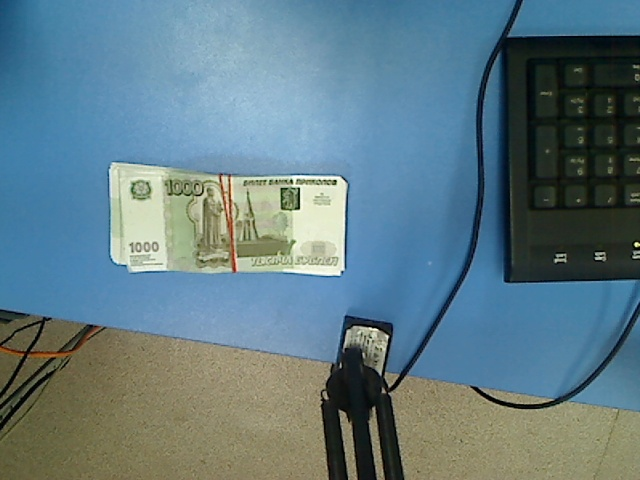banknotes: (106, 161, 348, 278)
